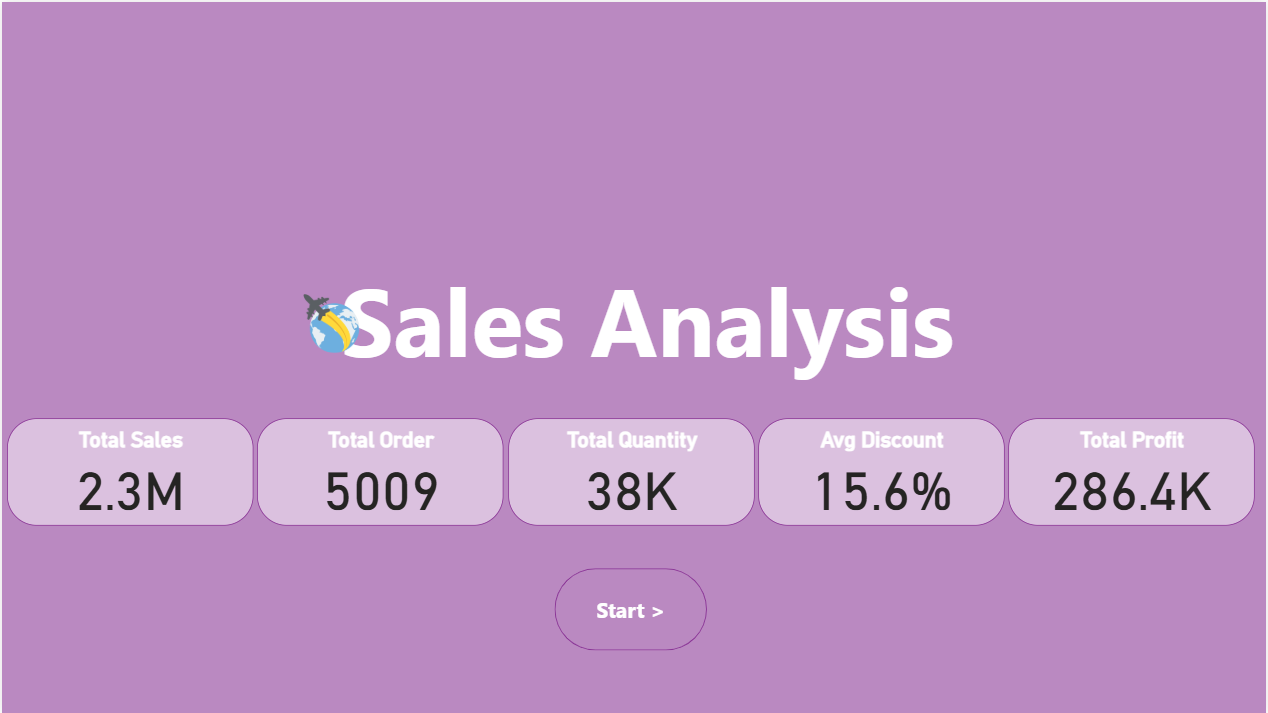

What the dashboard file says about the page in this screenshot:
{"tool":"powerbi","page":{"name":"Page 1","canvas":[1280,720],"ordinal":0},"visuals":[{"type":"textbox","box":[334.2,252.1,638.2,178.6],"z":0},{"type":"card","title":"Total Order","fields":{"Values":["Dax_Measure.Total orders"]},"box":[258.5,421.8,249.7,108.6],"z":1000},{"type":"card","title":"Avg Discount","fields":{"Values":["Dax_Measure.Average Discount"]},"box":[765.8,421.8,249.7,108.6],"z":2000},{"type":"card","title":"Total Sales","fields":{"Values":["Dax_Measure.Total Sales"]},"box":[4.8,421.8,249.7,108.6],"z":3000},{"type":"card","title":"Total Quantity","fields":{"Values":["Dax_Measure.Total Quantity"]},"box":[512.1,421.8,249.7,108.6],"z":4000},{"type":"card","title":"Total Profit","fields":{"Values":["Dax_Measure.Total Profit"]},"box":[1019.4,421.8,249.7,108.6],"z":5000},{"type":"actionButton","box":[559.8,573.1,154.4,83.2],"z":6000},{"type":"image","box":[276.3,290.8,114.6,68.8],"z":7000}]}

Visuals, with their boxes in screenshot pixels (x1, y1, x2, y2), scaled from the page's 1280x720 canvas onto the 1268x713 screenshot:
textbox: 331, 250, 963, 427
"Total Order" card: 256, 418, 503, 525
"Avg Discount" card: 759, 418, 1006, 525
"Total Sales" card: 5, 418, 252, 525
"Total Quantity" card: 507, 418, 755, 525
"Total Profit" card: 1010, 418, 1257, 525
actionButton: 555, 568, 708, 650
image: 274, 288, 387, 356
